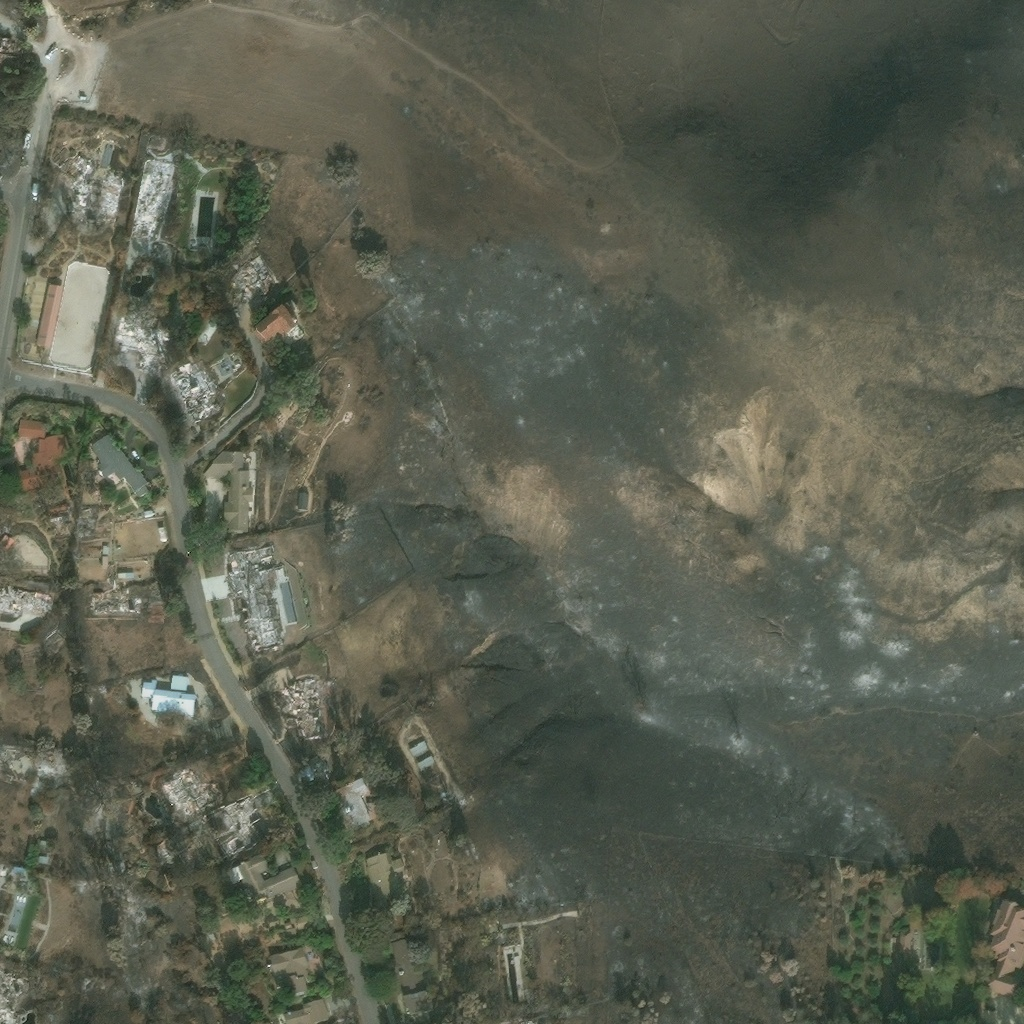0 no-damage: (223, 848, 301, 901), (202, 449, 251, 532), (90, 430, 149, 497), (984, 898, 1023, 997), (389, 936, 437, 1012), (17, 418, 66, 491), (162, 766, 221, 808), (361, 851, 404, 903), (140, 677, 195, 715), (34, 282, 63, 347), (252, 304, 296, 343), (334, 776, 370, 823), (190, 189, 215, 240), (268, 946, 309, 976), (281, 998, 329, 1023), (49, 501, 72, 524), (142, 765, 164, 786), (898, 925, 912, 953), (288, 975, 307, 995), (446, 782, 464, 801), (169, 673, 187, 691), (408, 740, 427, 757), (416, 754, 435, 771), (298, 490, 308, 509), (37, 854, 49, 865), (138, 511, 148, 520)
1 minor-damage: (297, 754, 331, 780)
2 major-damage: (207, 789, 269, 855)
3 destroyed: (223, 543, 298, 650), (114, 255, 165, 348), (58, 152, 124, 215), (272, 676, 324, 741), (165, 359, 213, 423), (132, 154, 169, 237), (234, 245, 272, 297), (0, 964, 29, 1023), (0, 35, 15, 52), (157, 241, 171, 256), (260, 161, 270, 171)
